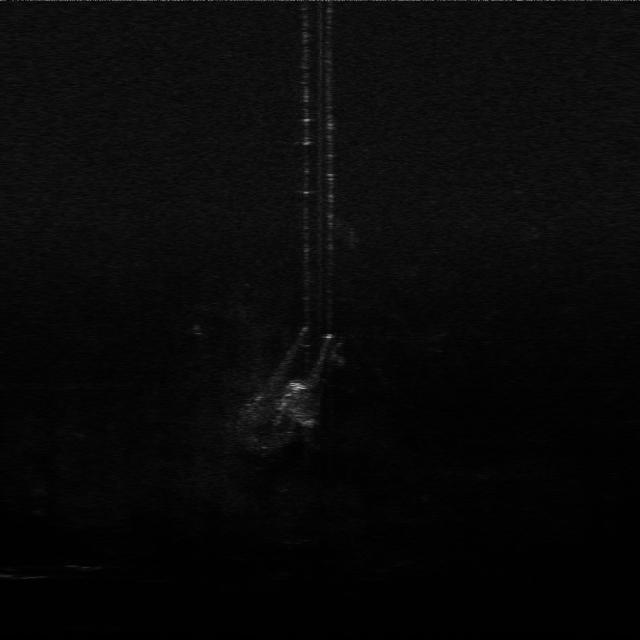rov: (286, 378, 310, 396)
